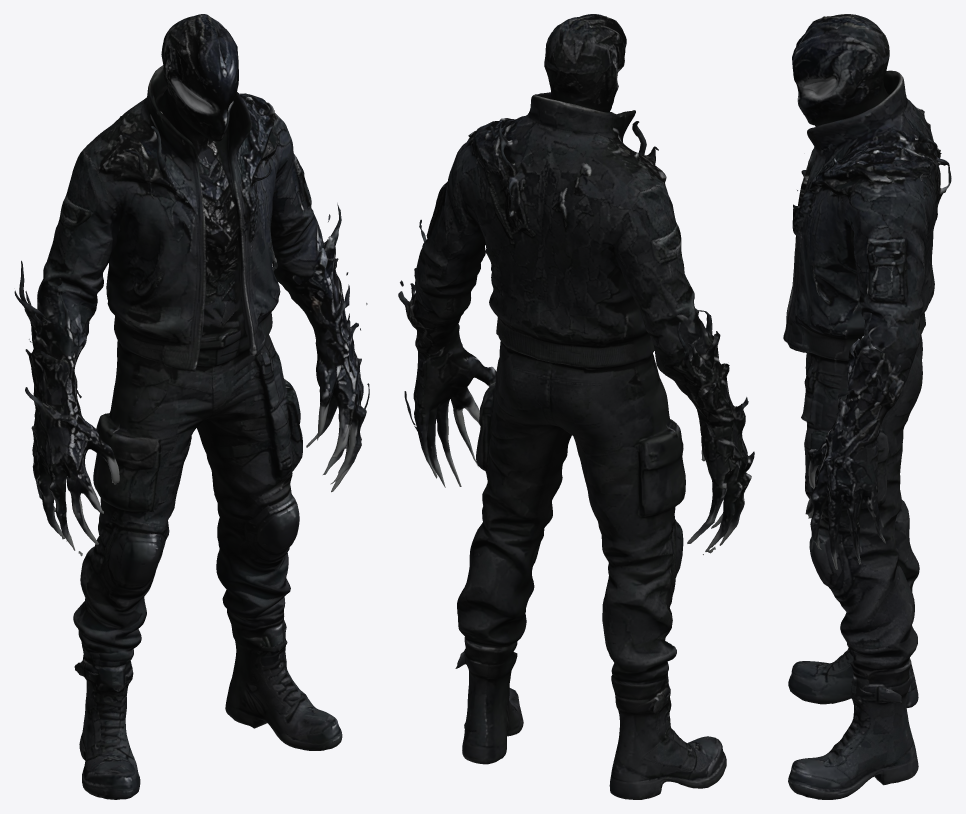
The model's file is tripo_convert_f0fa6f03-c40b-4ada-b2c3-a5538090a217.fbx.
The picture shows the model from 3 angles, left to right: view 1: azimuth 30°, elevation 25°; view 2: azimuth 150°, elevation 25°; view 3: azimuth 270°, elevation 25°; orthographic projection. The views are drawn at different scales.
Visible parts, largest first — view 1: tripo_node_f0fa6f03; view 2: tripo_node_f0fa6f03; view 3: tripo_node_f0fa6f03.
Boxes of the visible parts, x1,y1,x2,y2 form: tripo_node_f0fa6f03: [14, 14, 369, 799]; tripo_node_f0fa6f03: [398, 14, 754, 799]; tripo_node_f0fa6f03: [783, 14, 951, 799].
Size of the model in its own units: 0.4842 by 0.9982 by 0.2092.
